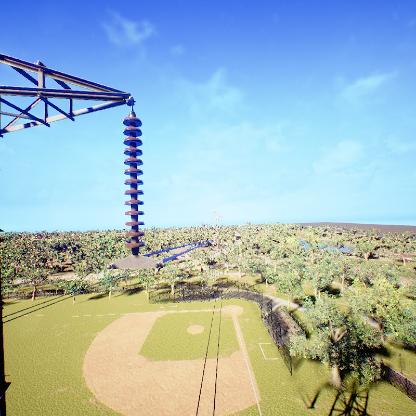insulator: (120, 114, 146, 253)
